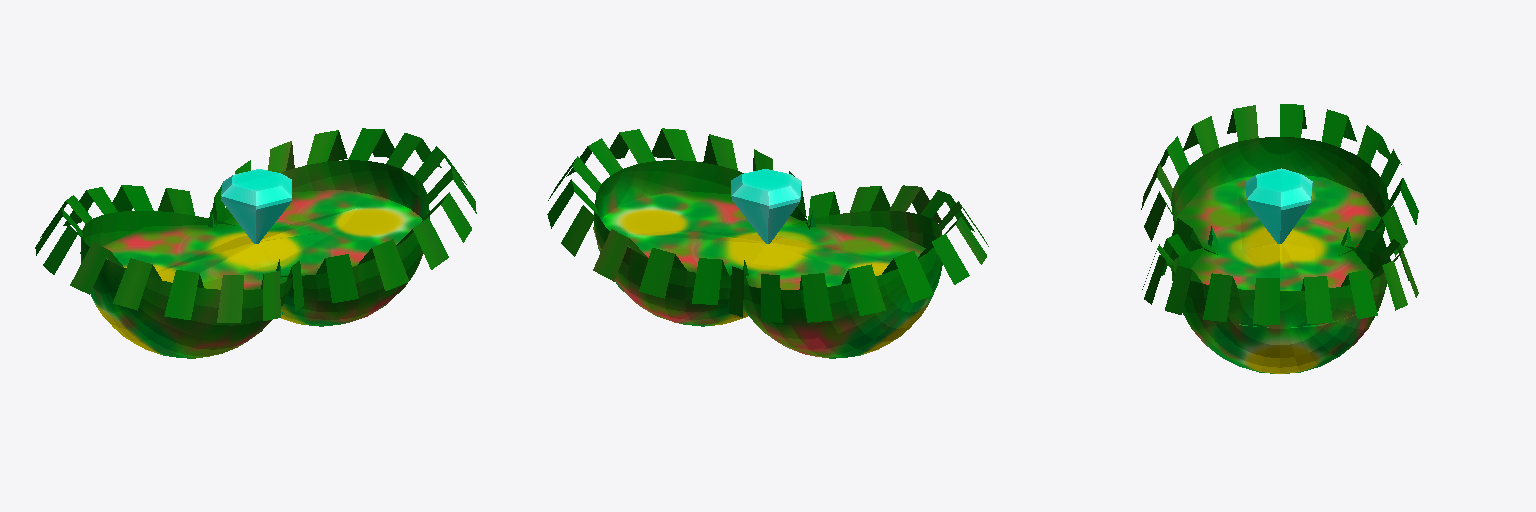
3 renders of one model, left to right at view 1: azimuth 30°, elevation 25°; view 2: azimuth 150°, elevation 25°; view 3: azimuth 270°, elevation 25°, orthographic.
Visible parts, largest first — view 1: Sphere; view 2: Sphere; view 3: Sphere.
Boxes of the visible parts, x1=… form: Sphere: x1=35, y1=128, x2=476, y2=358; Sphere: x1=547, y1=128, x2=988, y2=358; Sphere: x1=1141, y1=104, x2=1418, y2=373.
Bounding box in the file's own units: 4.28 × 1.55 × 2.55.
1 materials, 1 textured.